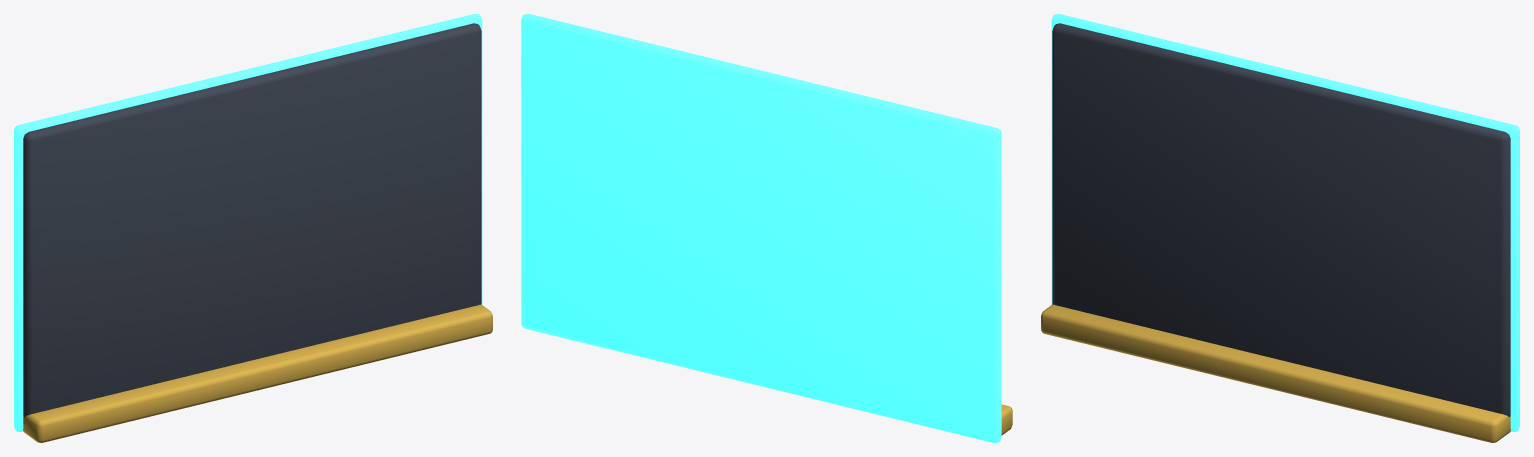
The model's file is Affordance_CardSocket.fbx.
3 views of the same model, side by side, from view 1: azimuth 30°, elevation 25°; view 2: azimuth 150°, elevation 25°; view 3: azimuth 330°, elevation 25° (orthographic). The views are drawn at different scales.
Visible parts, largest first — view 1: Socket_Backplate, Socket_BottomLedge, Socket_HighlightRim; view 2: Socket_HighlightRim; view 3: Socket_Backplate, Socket_BottomLedge, Socket_HighlightRim.
Boxes of the visible parts, <box> form: Socket_Backplate: <box>23,23,481,423</box>; Socket_BottomLedge: <box>23,304,492,442</box>; Socket_HighlightRim: <box>14,14,482,431</box>; Socket_HighlightRim: <box>521,14,1001,442</box>; Socket_Backplate: <box>1052,23,1510,417</box>; Socket_BottomLedge: <box>1041,304,1510,442</box>; Socket_HighlightRim: <box>1051,14,1519,431</box>.
Size of the model in its own units: 8.6 by 5.4 by 0.7.
